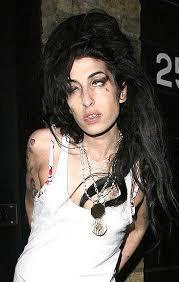Drunk: (66, 58, 118, 131)
